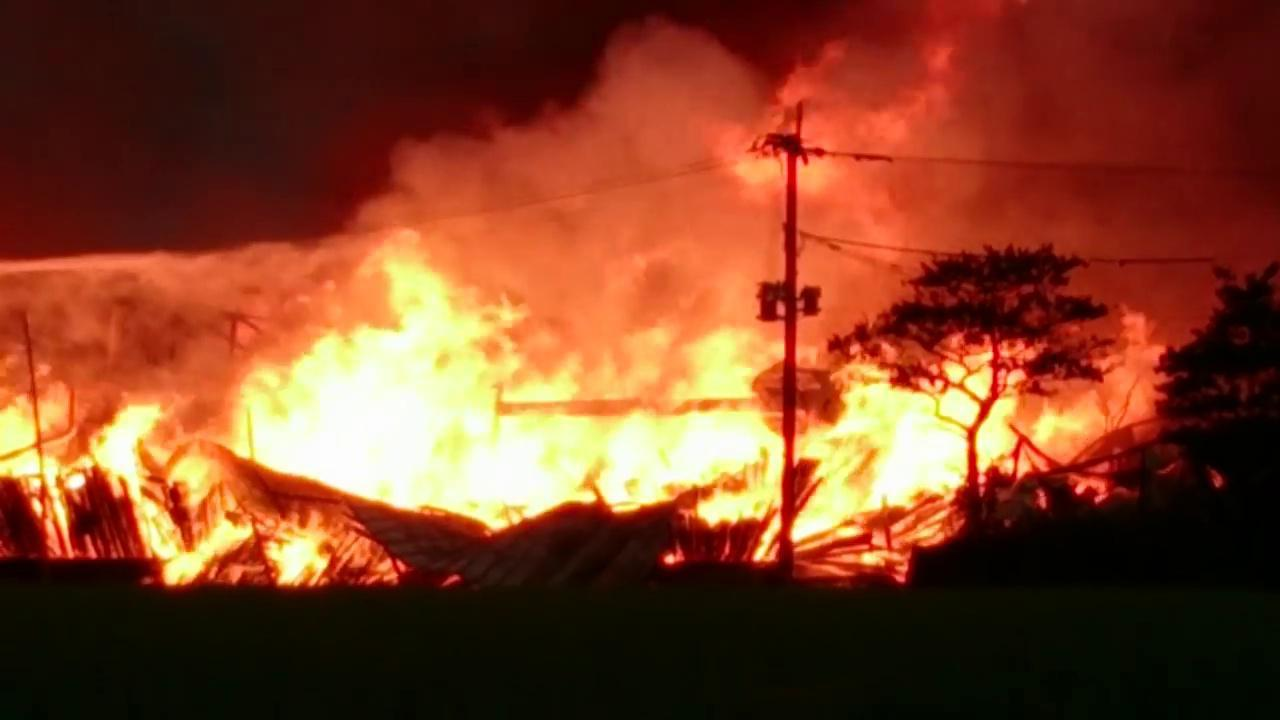Fire: (239, 235, 1177, 516), (4, 400, 332, 580)
